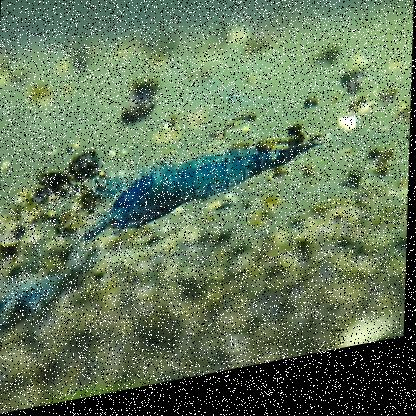shrimp: (75, 124, 324, 248)
